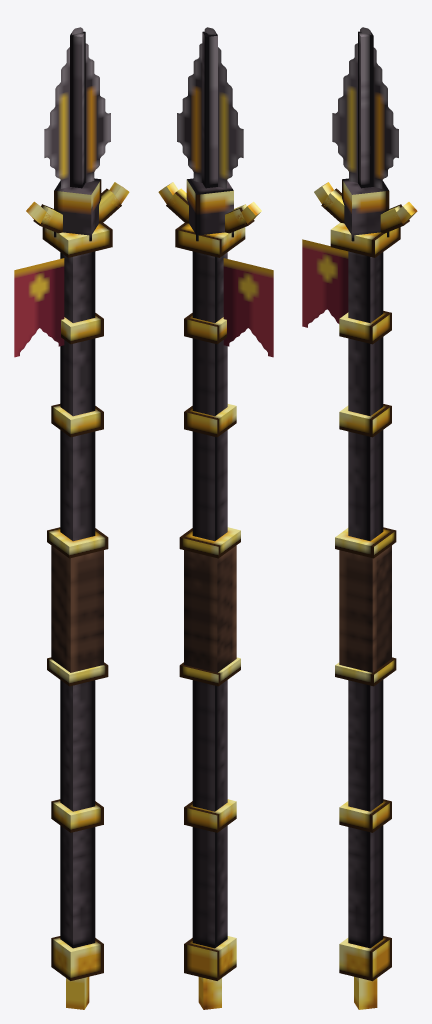
Rendered from netherite_spear.obj.
3 renders of one model, left to right at view 1: azimuth 30°, elevation 25°; view 2: azimuth 150°, elevation 25°; view 3: azimuth 330°, elevation 25°, orthographic.
Parts seen in each view (by area): view 1: shaft, grip, blade, pennant, midrib, socket, ferrule, collar, band_0, band_1, grip_ring_1, band_2 (+4 smaller); view 2: shaft, grip, blade, pennant, midrib, socket, ferrule, collar, band_0, band_1, grip_ring_1, band_2 (+4 smaller); view 3: shaft, grip, blade, pennant, midrib, socket, ferrule, collar, band_0, band_1, band_2, grip_ring_1 (+5 smaller).
Boxes of the visible parts, x1,y1,x2,y2 form: shaft: (60,251,95,948); grip: (51,545,103,672); blade: (44,27,110,188); pennant: (14,258,64,357); midrib: (70,31,85,188); socket: (54,178,101,241); ferrule: (51,936,103,980); collar: (42,222,112,257); band_0: (51,799,103,832); band_1: (51,404,103,437); grip_ring_1: (47,527,108,558); band_2: (61,313,103,344); shaft: (192,251,227,948); grip: (184,545,236,672); blade: (177,27,243,188); pennant: (223,258,273,357); midrib: (202,31,217,188); socket: (186,178,233,241); ferrule: (184,936,236,980); collar: (175,222,245,257); band_0: (184,799,236,832); band_1: (184,404,236,437); grip_ring_1: (179,527,240,558); band_2: (184,313,226,344); shaft: (348,251,383,948); grip: (339,545,391,672); blade: (332,27,398,188); pennant: (302,239,348,327); midrib: (358,31,373,188); socket: (342,178,389,241); ferrule: (339,936,391,981); collar: (330,222,400,257); band_0: (339,799,391,832); band_1: (339,404,391,437); band_2: (339,311,391,344); grip_ring_1: (335,527,396,558).
Bounding box in the file's own units: 5.04 × 42.25 × 2.12.
1 material, 1 textured.
